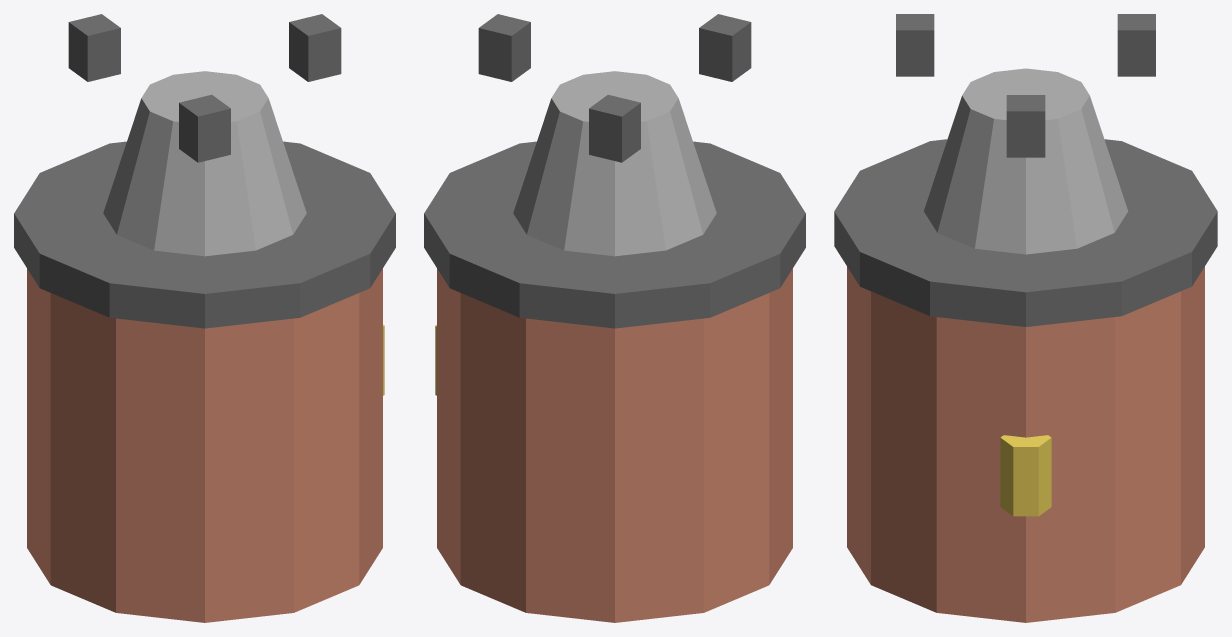
Rendered from kerosene-stove.glb.
3 renders of one model, left to right at view 1: azimuth 30°, elevation 25°; view 2: azimuth 150°, elevation 25°; view 3: azimuth 270°, elevation 25°, orthographic.
Parts seen in each view (by area): view 1: kerosene-stove_Cylinder, kerosene-stove_Cylinder.001, kerosene-stove_Cone, kerosene-stove_Cube, kerosene-stove_Cube.001, kerosene-stove_Cube.002; view 2: kerosene-stove_Cylinder, kerosene-stove_Cylinder.001, kerosene-stove_Cone, kerosene-stove_Cube, kerosene-stove_Cube.002, kerosene-stove_Cube.001; view 3: kerosene-stove_Cylinder, kerosene-stove_Cylinder.001, kerosene-stove_Cone, kerosene-stove_Cylinder.002, kerosene-stove_Cube, kerosene-stove_Cube.001, kerosene-stove_Cube.002.
Part boxes in pixels (x1=…): kerosene-stove_Cylinder: x1=27, y1=268, x2=382, y2=622; kerosene-stove_Cylinder.001: x1=14, y1=141, x2=395, y2=328; kerosene-stove_Cone: x1=103, y1=71, x2=306, y2=256; kerosene-stove_Cube: x1=289, y1=14, x2=341, y2=81; kerosene-stove_Cube.001: x1=68, y1=14, x2=120, y2=81; kerosene-stove_Cube.002: x1=179, y1=94, x2=230, y2=162; kerosene-stove_Cylinder: x1=437, y1=268, x2=792, y2=622; kerosene-stove_Cylinder.001: x1=424, y1=141, x2=805, y2=328; kerosene-stove_Cone: x1=513, y1=71, x2=716, y2=256; kerosene-stove_Cube: x1=478, y1=14, x2=530, y2=81; kerosene-stove_Cube.002: x1=699, y1=14, x2=751, y2=81; kerosene-stove_Cube.001: x1=589, y1=94, x2=640, y2=162; kerosene-stove_Cylinder: x1=847, y1=267, x2=1204, y2=622; kerosene-stove_Cylinder.001: x1=834, y1=139, x2=1217, y2=326; kerosene-stove_Cone: x1=923, y1=68, x2=1128, y2=254; kerosene-stove_Cylinder.002: x1=1000, y1=435, x2=1051, y2=516; kerosene-stove_Cube: x1=1006, y1=95, x2=1045, y2=157; kerosene-stove_Cube.001: x1=1117, y1=14, x2=1155, y2=76; kerosene-stove_Cube.002: x1=896, y1=14, x2=934, y2=76.
Size of the model in its own units: 0.3073 by 0.43 by 0.3.
